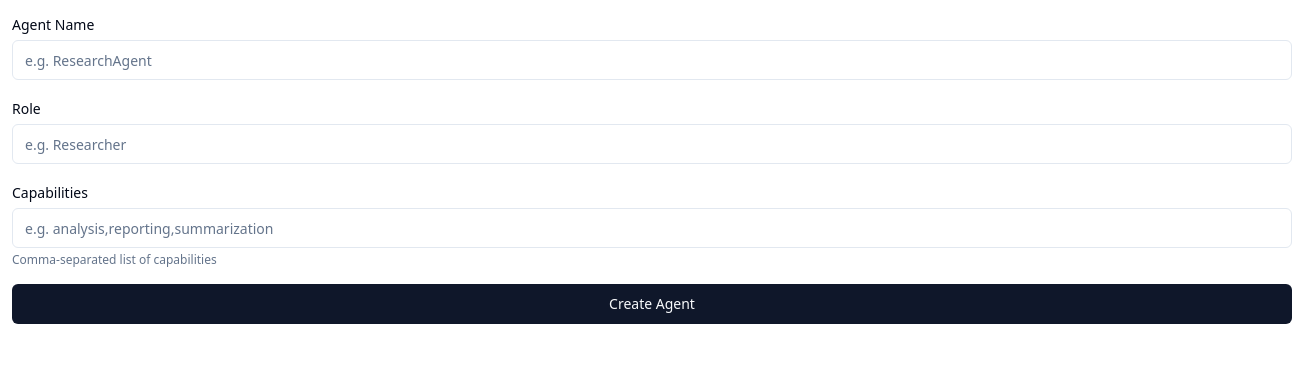
Scenario: AgentCreateForm › shows validation error when role is empty on submit
Step 1. Type "TestAgent" into the field labelled "Agent Name" → (652, 60), box [12,40,1292,80]
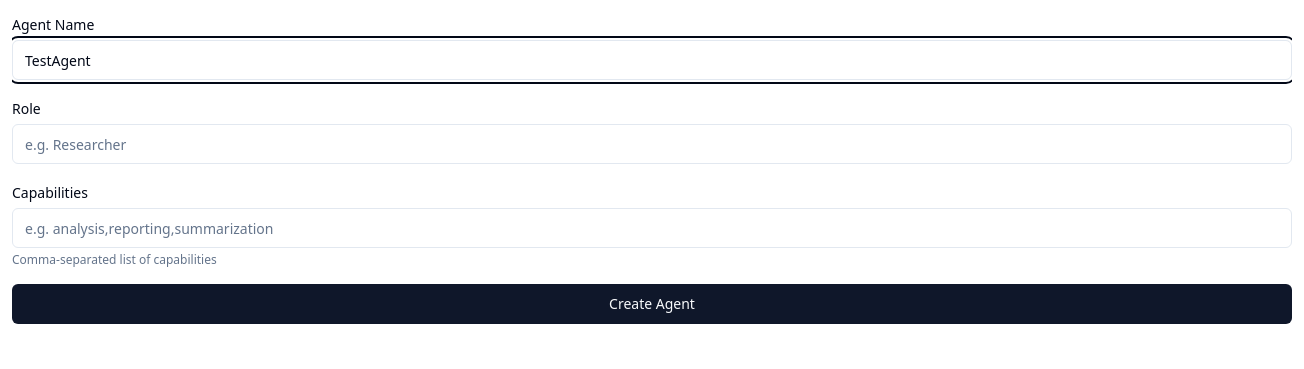
Step 2. Click the button "Create Agent" → click(652, 304), box [12,284,1292,324]
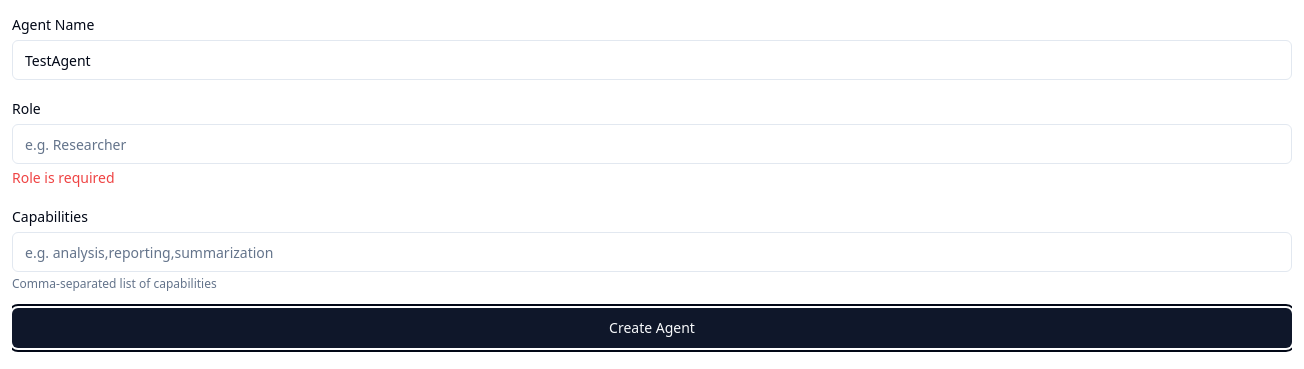
Result: the text "Role is required" is shown at [12,168,115,187]
